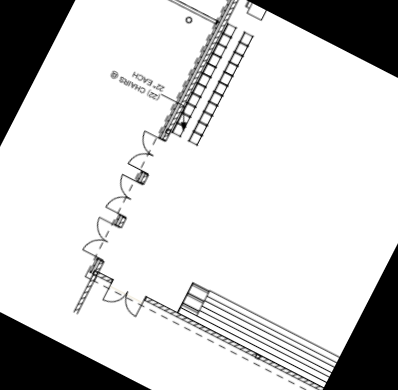double door: (99, 275, 150, 321), (79, 215, 124, 266), (125, 127, 169, 177), (103, 171, 146, 221)
wall: (142, 293, 324, 390), (156, 0, 242, 144), (71, 273, 98, 317), (94, 270, 111, 285)
